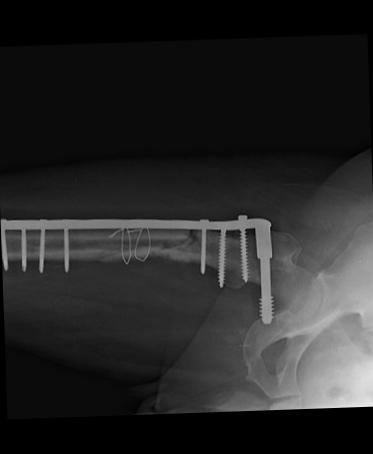fractured: (94, 229, 199, 264)
